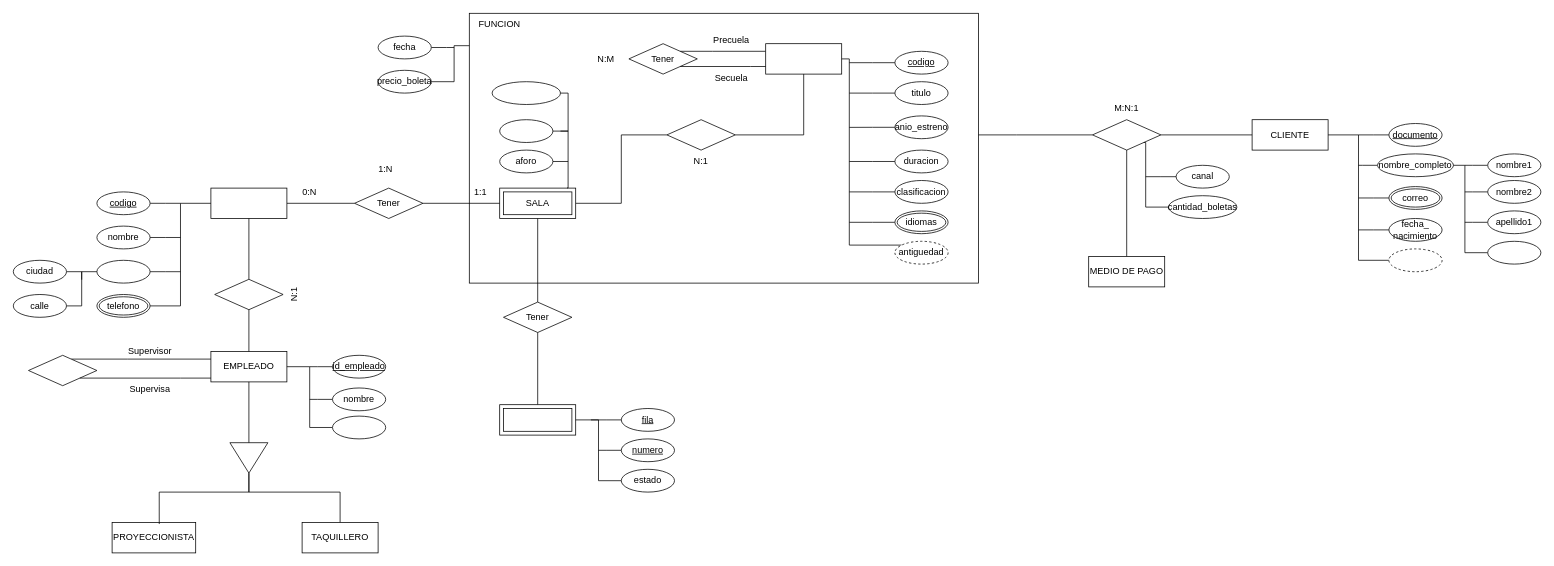
Some shapes in this 1554 by 566 pixel diagram are drawn without their labels. The shapes that lost their labels are listed below. From the top down, each one's centre as x and y in pixels, then its label:
At point 803,58: "PELICULA".
At point 525,92: "numero_sala".
At point 526,130: "formato".
At point 700,134: "Proyectar".
At point 1126,134: "Comprar".
At point 248,202: "SEDE".
At point 123,271: "direccion".
At point 1415,260: "edad".
At point 1514,252: "apellido2".
At point 248,294: "Trabajar".
At point 62,370: "Supervisar".
At point 359,427: "fecha_ ingreso".
At point 537,419: "SILLA".
At point 248,457: "ES".
